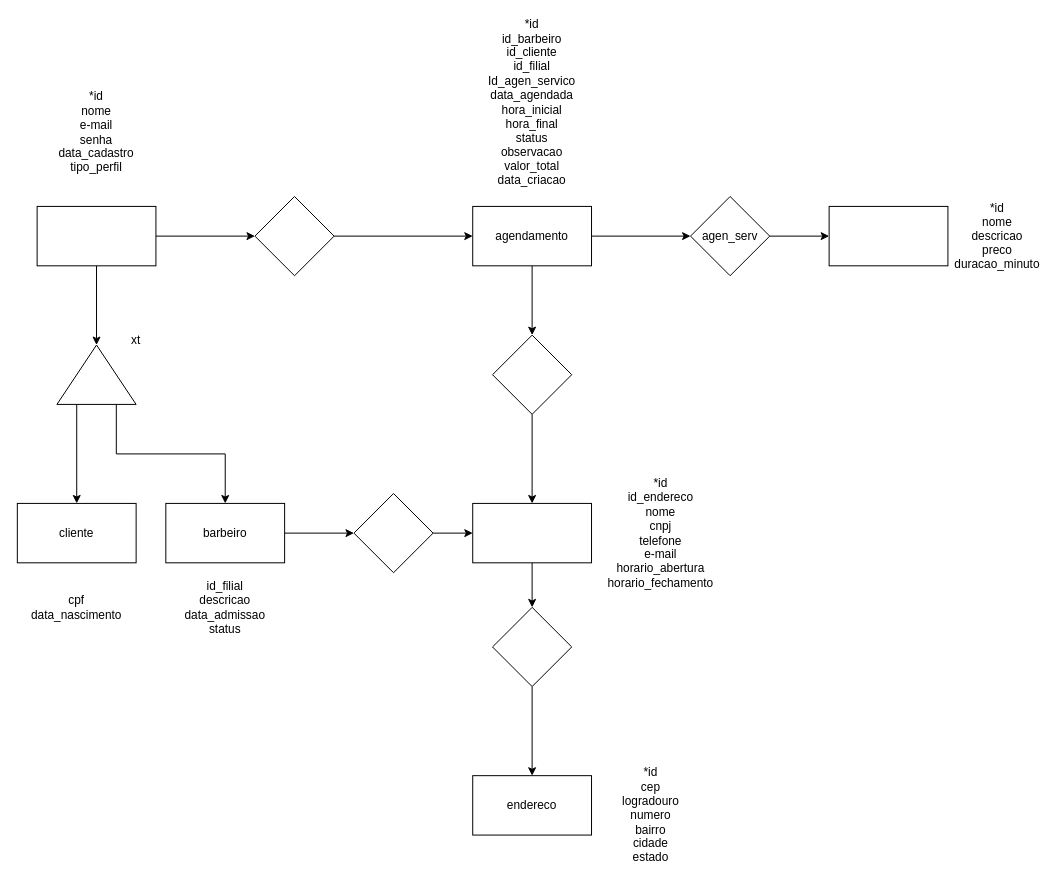
This 1057x882 diagram has some shape labels left out. The centre of each missing label's shape, as x and y in pixels:
"filial" belongs at (x=532, y=532).
"servicos" belongs at (x=888, y=235).
"usuario" belongs at (x=96, y=235).
